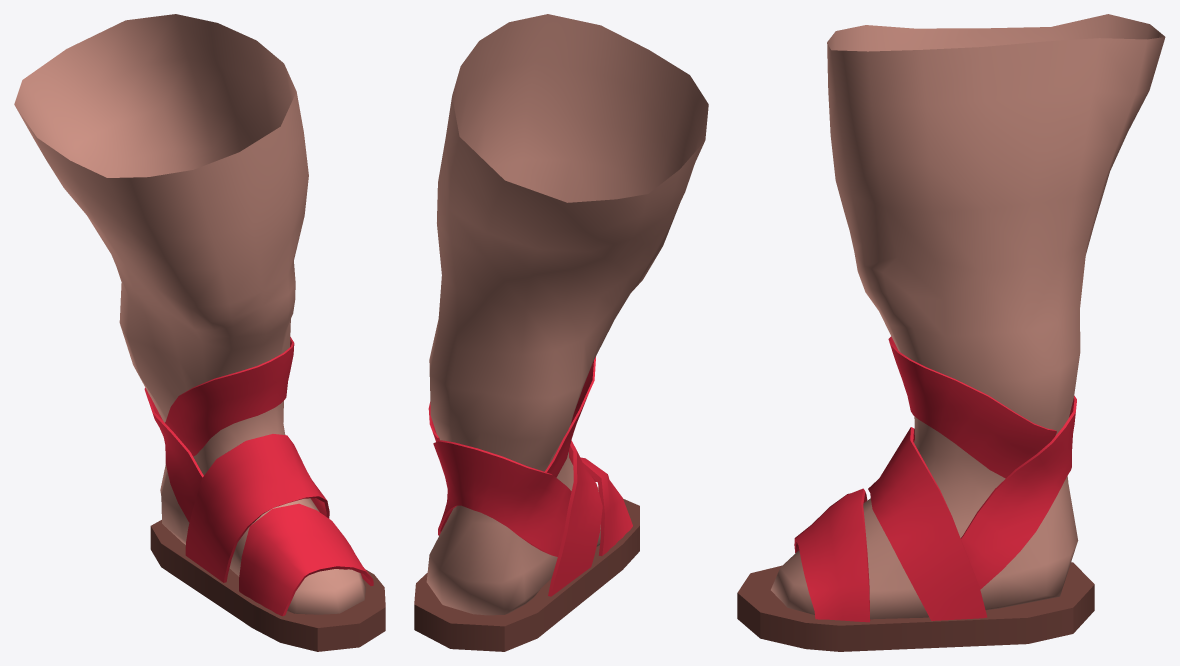
The model's file is leg_L.fbx.
3 views of the same model, side by side, from view 1: azimuth 30°, elevation 25°; view 2: azimuth 150°, elevation 25°; view 3: azimuth 270°, elevation 25° (orthographic). The views are drawn at different scales.
Parts seen in each view (by area): view 1: Player.007, Sandal Stripe 2, Sandal Base, Sandal Stripe 1, Sandal Stripe 4, Sandal Stripe 3; view 2: Player.007, Sandal Stripe 3, Sandal Base, Sandal Stripe 2, Sandal Stripe 1, Sandal Stripe 4; view 3: Player.007, Sandal Base, Sandal Stripe 2, Sandal Stripe 4, Sandal Stripe 3, Sandal Stripe 1.
Boxes of the visible parts, <box> form: Player.007: <box>14,14,365,614</box>; Sandal Stripe 2: <box>185,434,329,582</box>; Sandal Base: <box>150,520,385,651</box>; Sandal Stripe 1: <box>239,503,373,616</box>; Sandal Stripe 4: <box>165,337,294,456</box>; Sandal Stripe 3: <box>144,387,203,522</box>; Player.007: <box>426,14,708,615</box>; Sandal Stripe 3: <box>433,440,571,556</box>; Sandal Base: <box>414,498,639,651</box>; Sandal Stripe 2: <box>548,440,602,596</box>; Sandal Stripe 1: <box>580,457,632,556</box>; Sandal Stripe 4: <box>428,357,595,477</box>; Player.007: <box>771,14,1165,619</box>; Sandal Base: <box>737,562,1094,651</box>; Sandal Stripe 2: <box>868,427,987,620</box>; Sandal Stripe 4: <box>888,336,1056,478</box>; Sandal Stripe 3: <box>960,396,1076,589</box>; Sandal Stripe 1: <box>794,488,870,622</box>.
Bounding box in the file's own units: 32.04 × 66.34 × 44.64.
